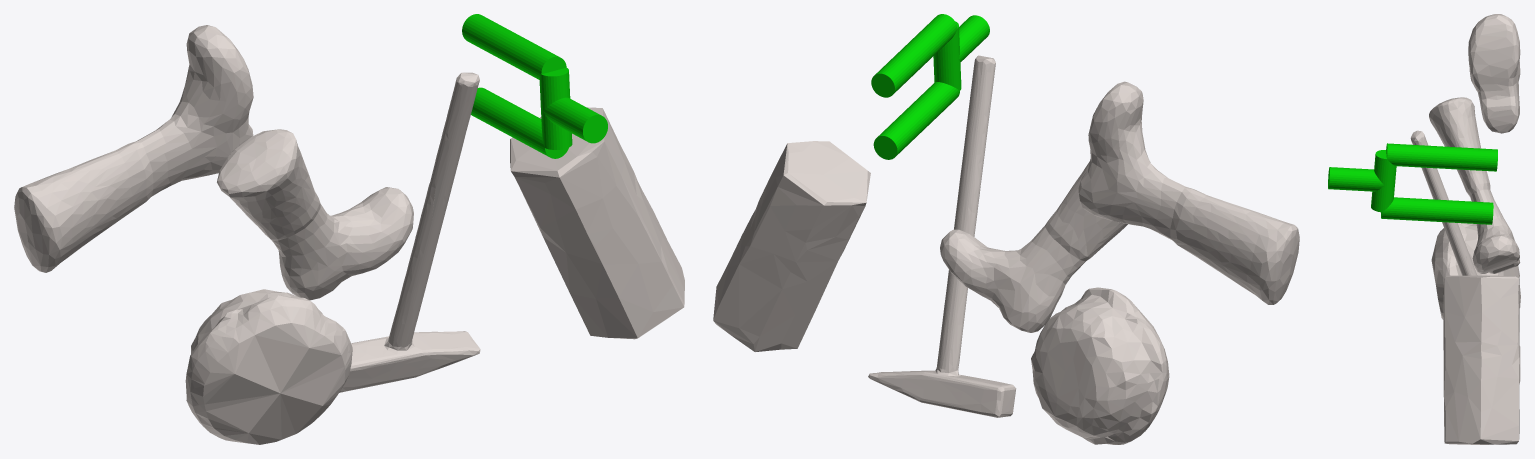
The model's file is round_000_trial_001.obj.
3 renders of one model, left to right at view 1: azimuth 30°, elevation 25°; view 2: azimuth 150°, elevation 25°; view 3: azimuth 270°, elevation 25°, orthographic. The views are drawn at different scales.
Visible parts, largest first — view 1: geometry_0, geometry_1; view 2: geometry_0, geometry_1; view 3: geometry_0, geometry_1.
Part boxes in pixels (x1,y1,x2,y2): geometry_0: [14, 25, 684, 444]; geometry_1: [462, 14, 607, 158]; geometry_0: [713, 55, 1299, 444]; geometry_1: [871, 14, 989, 159]; geometry_0: [1410, 14, 1520, 444]; geometry_1: [1328, 143, 1497, 224].
Bounding box in the file's own units: 0.2514 × 0.1537 × 0.0869.
